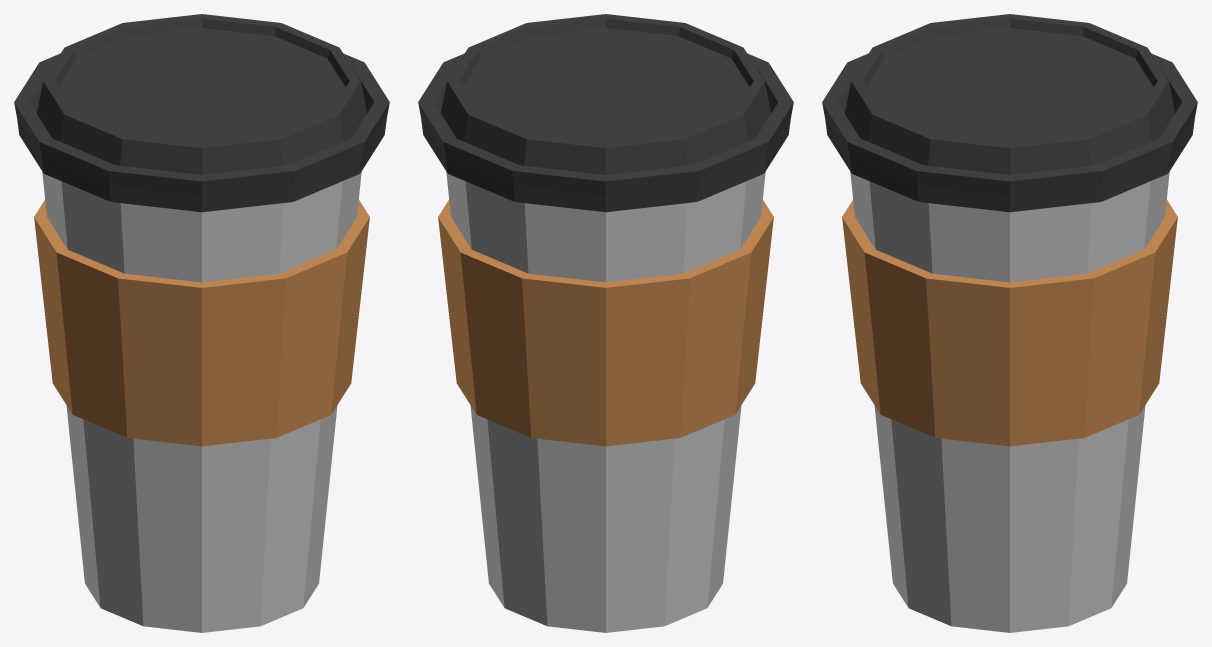
File: coffeecupModel.fbx
3 renders of one model, left to right at view 1: azimuth 30°, elevation 25°; view 2: azimuth 150°, elevation 25°; view 3: azimuth 270°, elevation 25°, orthographic.
Parts seen in each view (by area): view 1: Cup; view 2: Cup; view 3: Cup.
Part boxes in pixels (bbox=[...]): Cup: bbox=[14, 14, 389, 632]; Cup: bbox=[418, 14, 793, 632]; Cup: bbox=[822, 14, 1197, 632].
Size of the model in its own units: 128 by 188 by 128.
